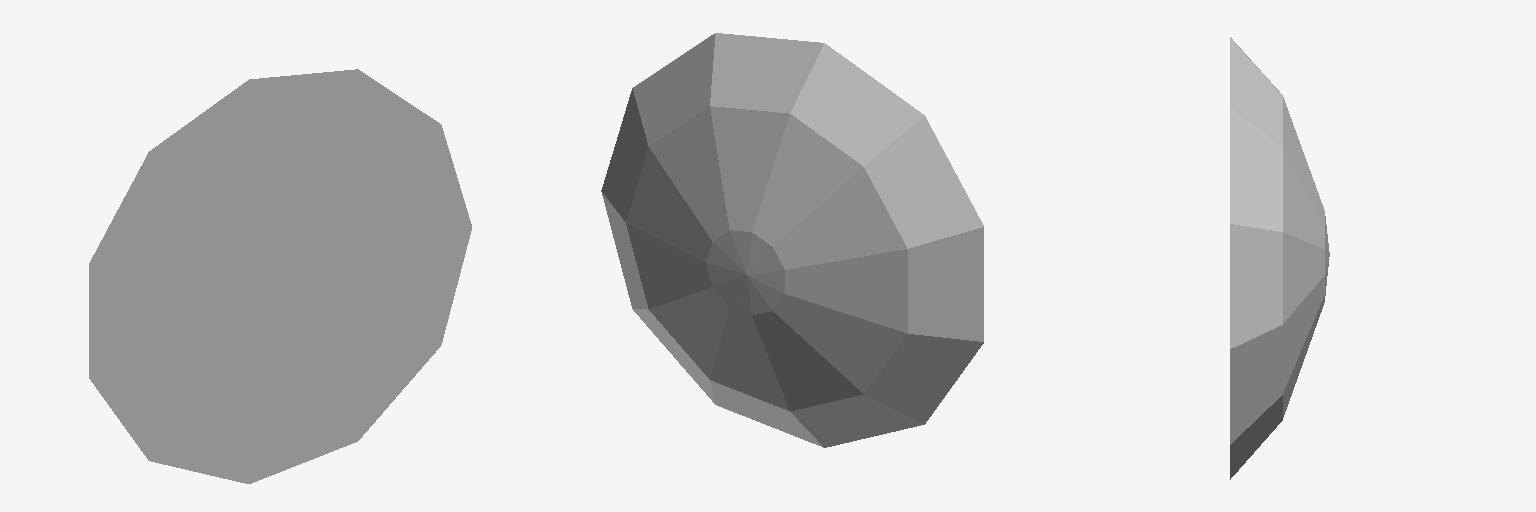
File: onion_4.obj
The picture shows the model from 3 angles: view 1: azimuth 30°, elevation 25°; view 2: azimuth 150°, elevation 25°; view 3: azimuth 270°, elevation 25°; orthographic projection.
Size of the model in its own units: 1.96 by 1.98 by 0.4409.